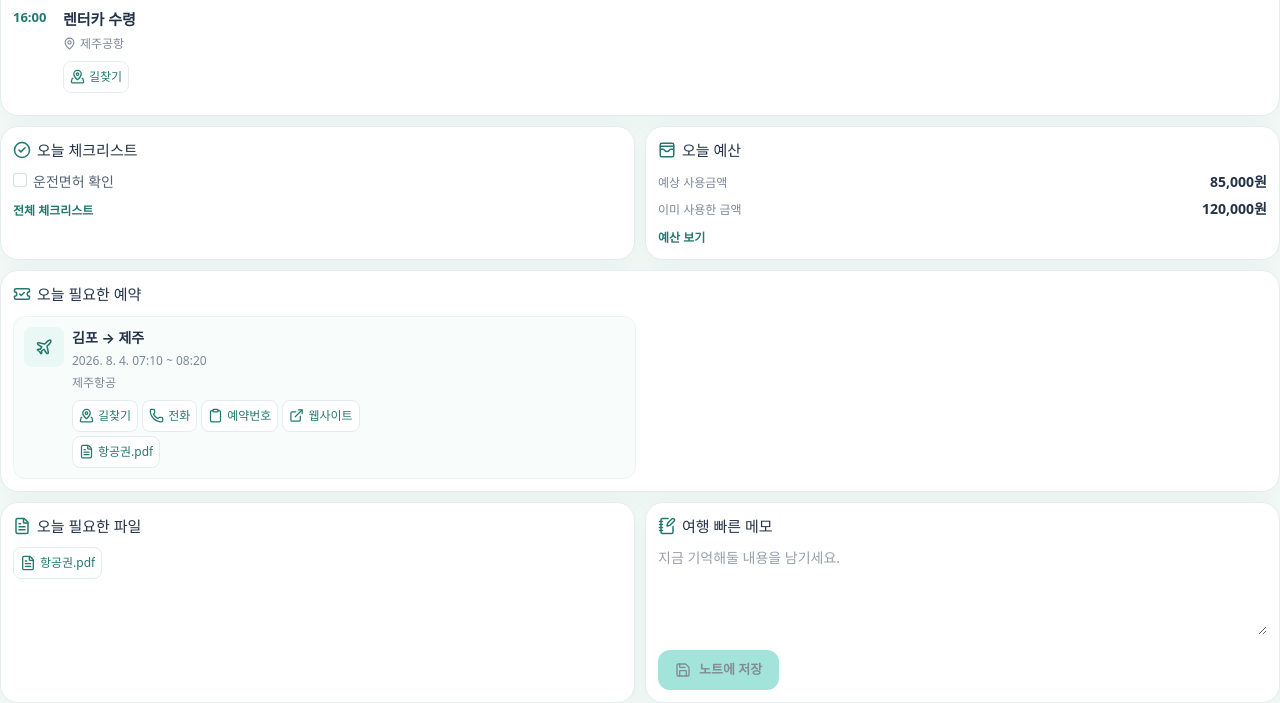
Test: project travel today › saves a one-field quick note to Workspace Notes
(page scrolled)
In the text box named "여행 빠른 메모": x=962, y=591 [658,547,1267,635], type "카페 너무 좋았다."
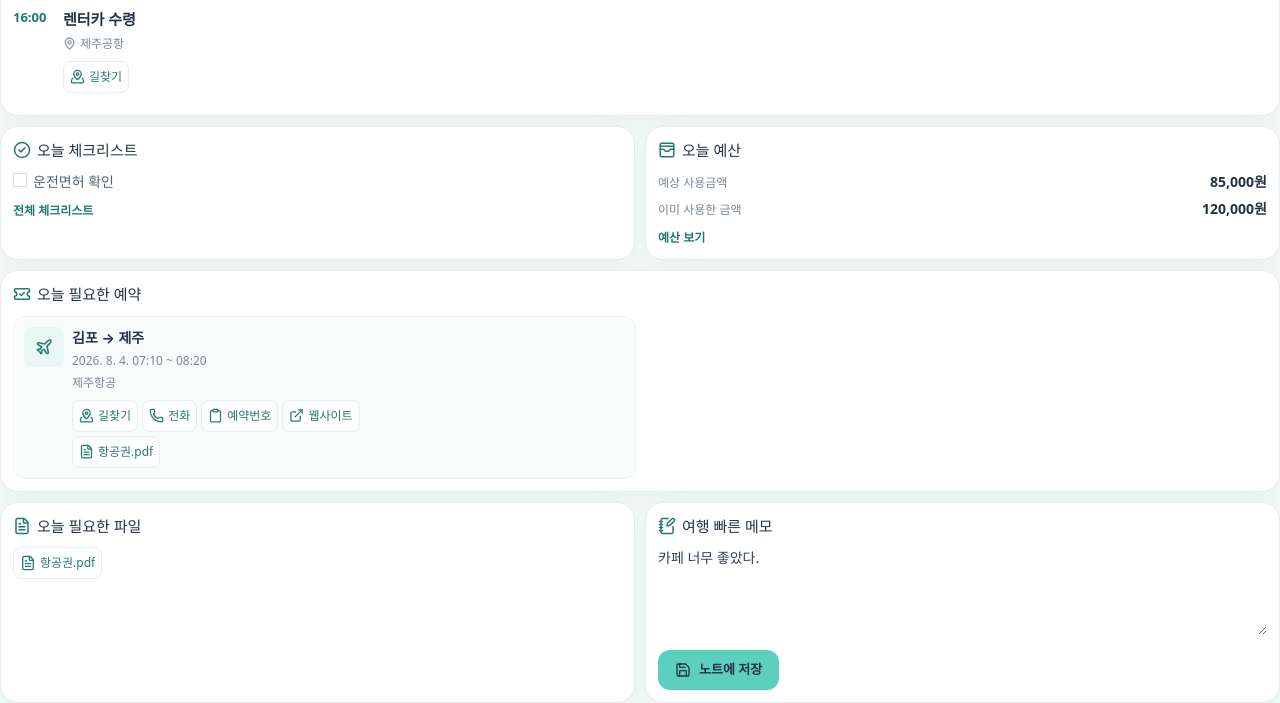
Click the button with aria-label "빠른 메모 저장": x=719, y=670 [658,650,779,690]
(page scrolled)
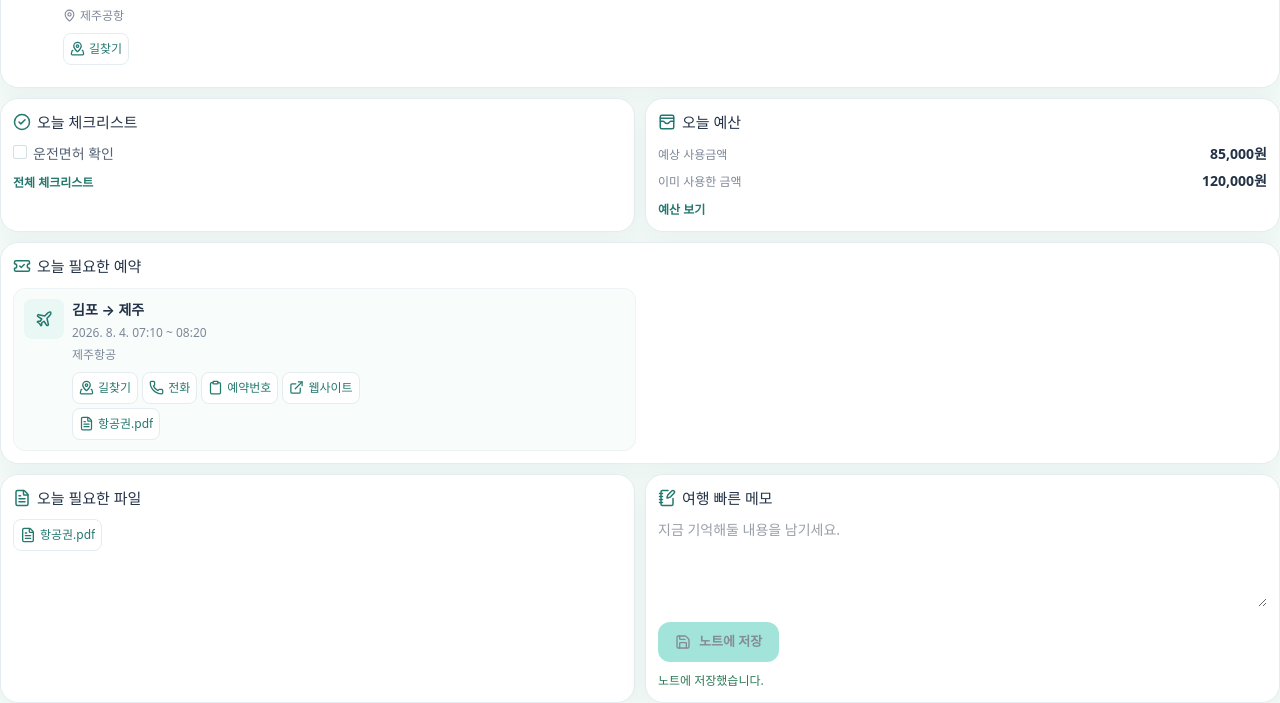
Check: the text "노트에 저장했습니다." is shown, box [658,672,764,689]
